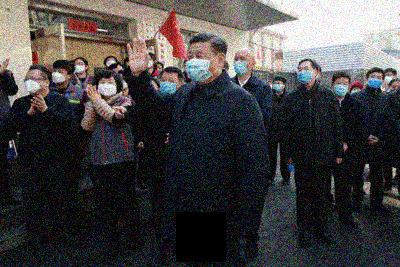with_mask: (187, 49, 220, 84), (234, 53, 251, 76), (98, 78, 117, 97), (159, 75, 178, 94), (25, 75, 43, 95), (297, 65, 314, 85), (52, 68, 67, 84), (369, 73, 383, 90), (335, 81, 349, 97), (74, 61, 86, 74), (273, 81, 285, 93), (107, 59, 118, 69), (385, 72, 393, 85)
